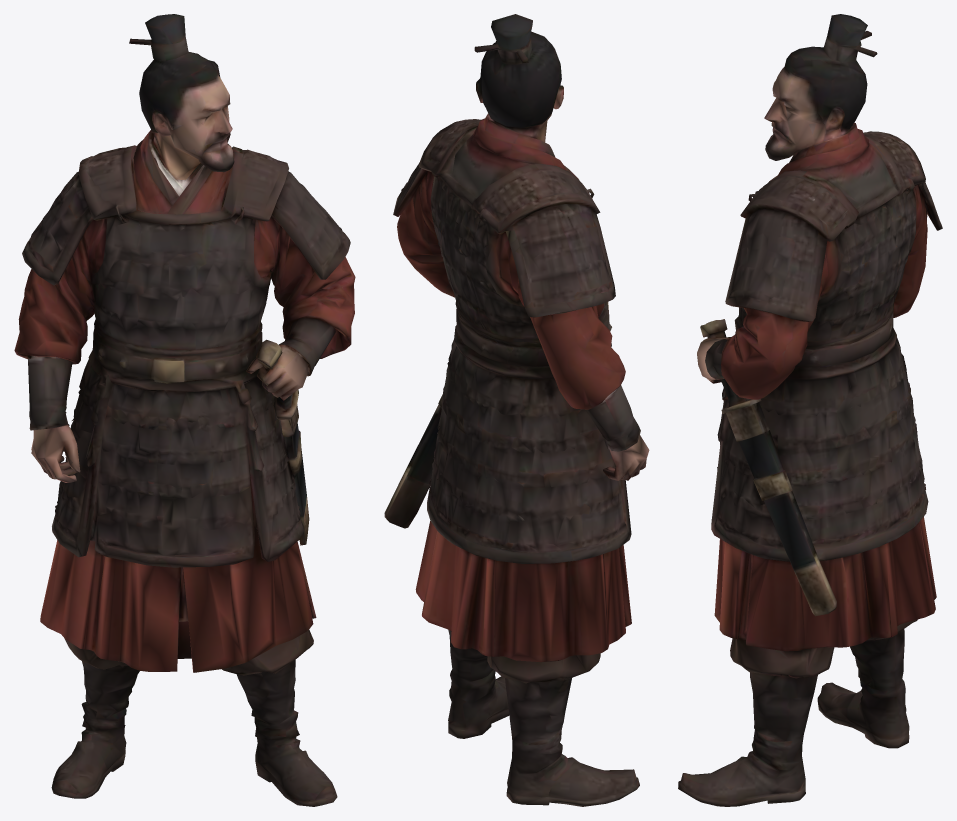
Rendered from guard2_lod1.glb.
3 views of the same model, side by side, from view 1: azimuth 30°, elevation 25°; view 2: azimuth 150°, elevation 25°; view 3: azimuth 270°, elevation 25° (orthographic).
Visible parts, largest first — view 1: node_0; view 2: node_0; view 3: node_0.
Part boxes in pixels (x1=…): node_0: x1=14, y1=14, x2=355, y2=806; node_0: x1=384, y1=14, x2=649, y2=806; node_0: x1=678, y1=14, x2=942, y2=806.
Bounding box in the file's own units: 0.4417 × 1.13 × 0.3673.
1 material, 1 textured.
